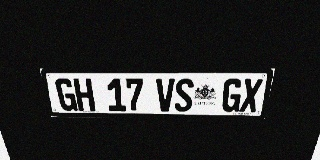1: (106, 78, 126, 111)
7: (124, 78, 144, 111)
G: (54, 78, 78, 111), (221, 79, 243, 112)
H: (73, 78, 95, 111)
S: (175, 78, 194, 112)
V: (156, 78, 175, 111)
X: (239, 79, 263, 112)
